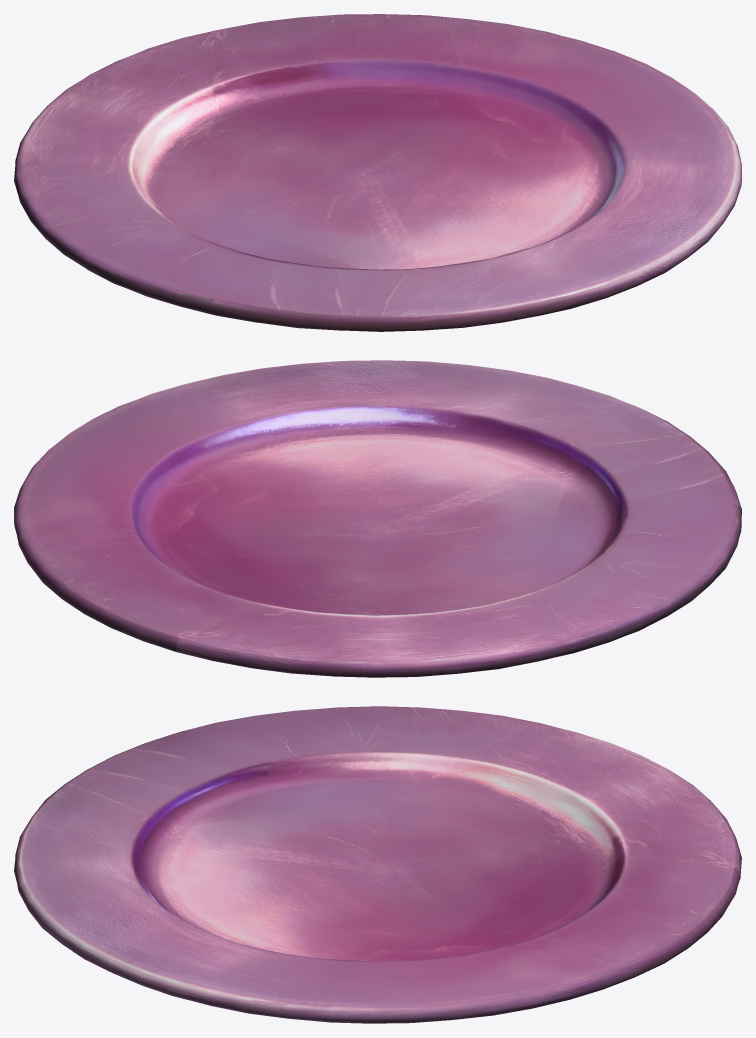
Rendered from Pink_Charger_Plate_0225003749_texture.glb.
The picture shows the model from 3 angles, top to bottom: view 1: azimuth 30°, elevation 25°; view 2: azimuth 150°, elevation 25°; view 3: azimuth 270°, elevation 25°; orthographic projection.
Visible parts, largest first — view 1: Mesh_0; view 2: Mesh_0; view 3: Mesh_0.
Boxes of the visible parts, left/top/right/bottom form: Mesh_0: left=14, top=14, right=741, bottom=331; Mesh_0: left=14, top=360, right=741, bottom=677; Mesh_0: left=14, top=706, right=741, bottom=1023.
Size of the model in its own units: 0.3165 by 0.0254 by 0.3172.
1 material, 1 textured.
